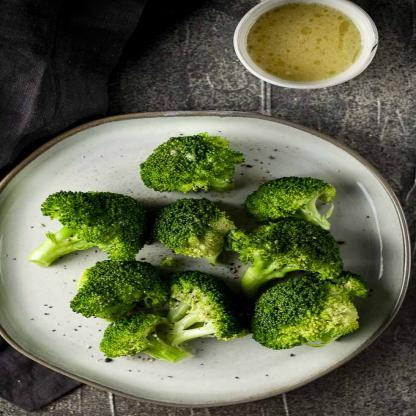broccoli: (29, 131, 372, 365)
